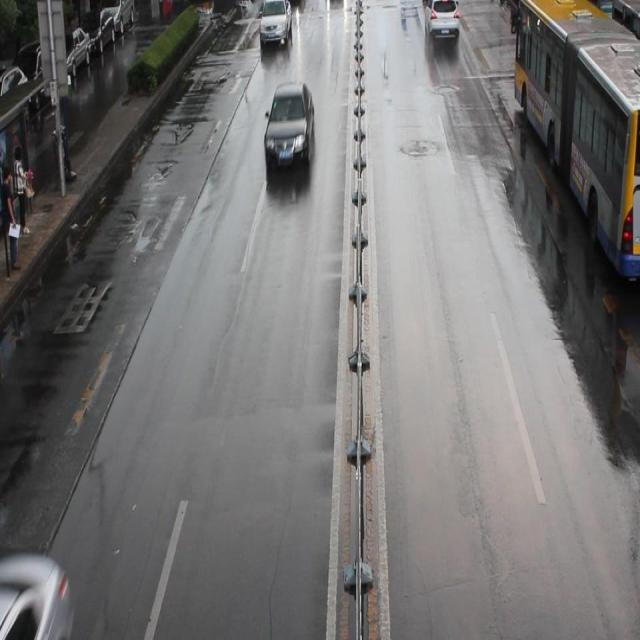car: (1, 551, 69, 640), (262, 83, 315, 178), (257, 1, 290, 49), (424, 1, 459, 40)
van: (513, 1, 640, 280)
